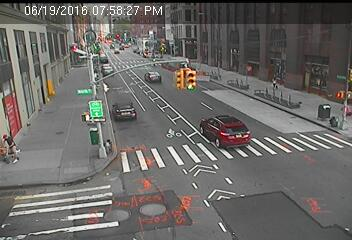neg: (62, 51, 80, 75), (110, 117, 124, 136), (198, 133, 209, 147), (251, 125, 261, 139), (106, 49, 116, 63), (141, 77, 151, 90)
pos: (268, 77, 278, 90)
